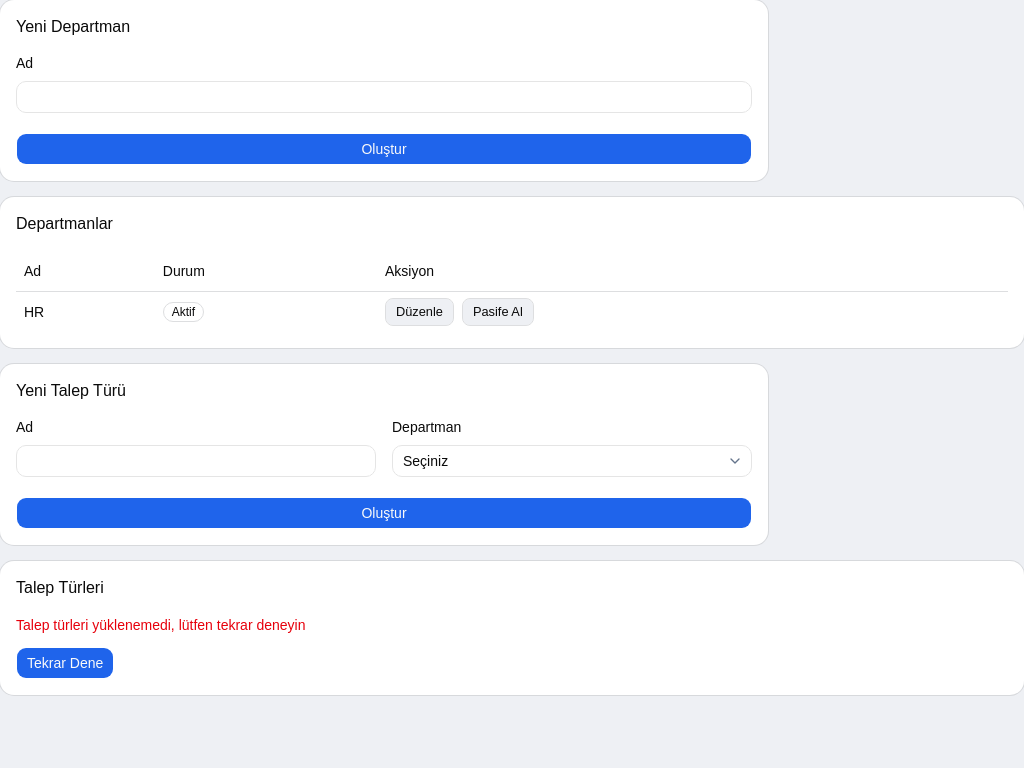
it: AdminCatalog page › shows a request types error in one place with a working retry
Expected: the message reads "Talep türleri yüklenemedi, lütfen tekrar deneyin", [16,617,306,633]
Expected: the cell "HR" is shown, [16,291,155,332]
Click the button "Tekrar Dene" at (65, 663), box [16,647,114,679]
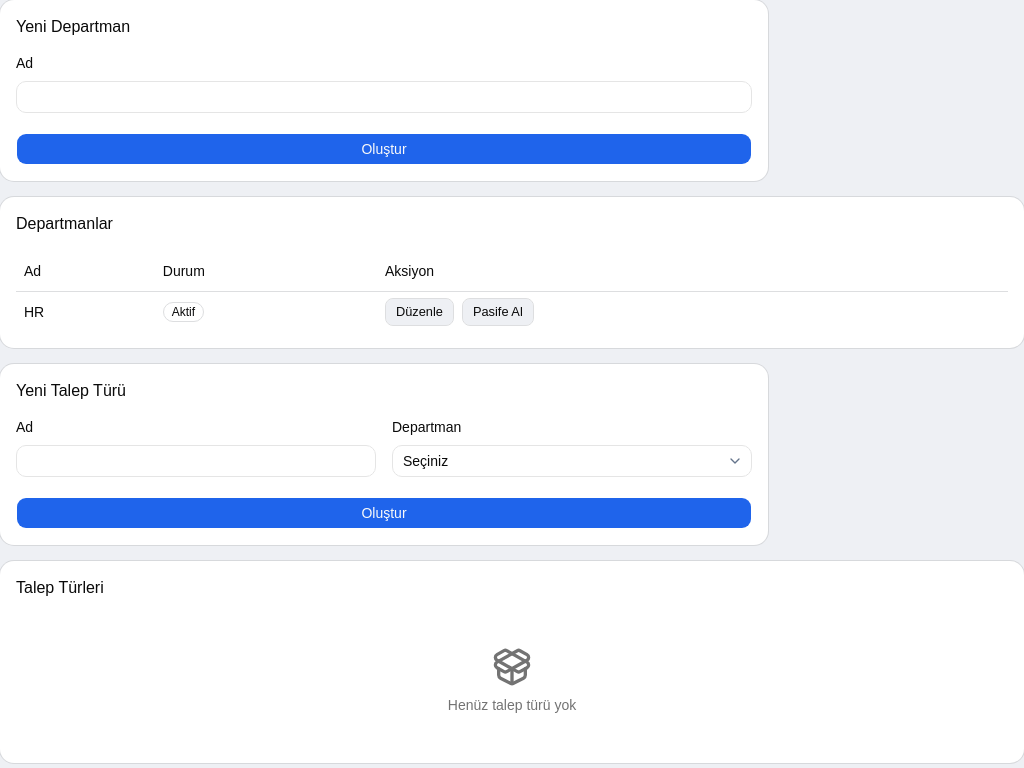
Expected: the text "Henüz talep türü yok" is shown, [448,695,576,715]
Expected: the message "Talep türleri yüklenemedi, lütfen tekrar deneyin" is gone
